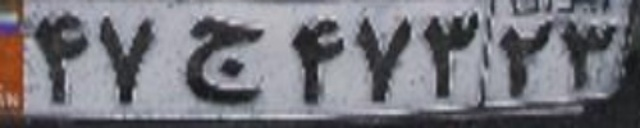2: (499, 20, 551, 97)
3: (424, 11, 478, 100), (560, 19, 618, 91)
4: (30, 13, 90, 103), (291, 18, 347, 104)
7: (98, 15, 160, 104), (356, 15, 413, 103)
jim: (183, 17, 265, 104)
